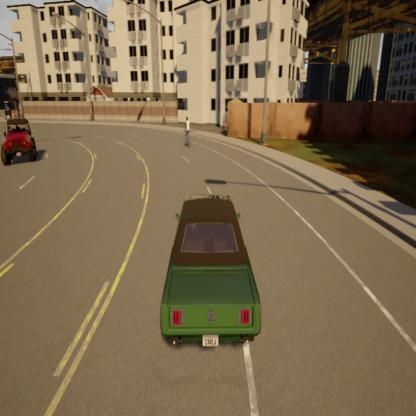Cars: (152, 186, 268, 368), (0, 112, 42, 170)
